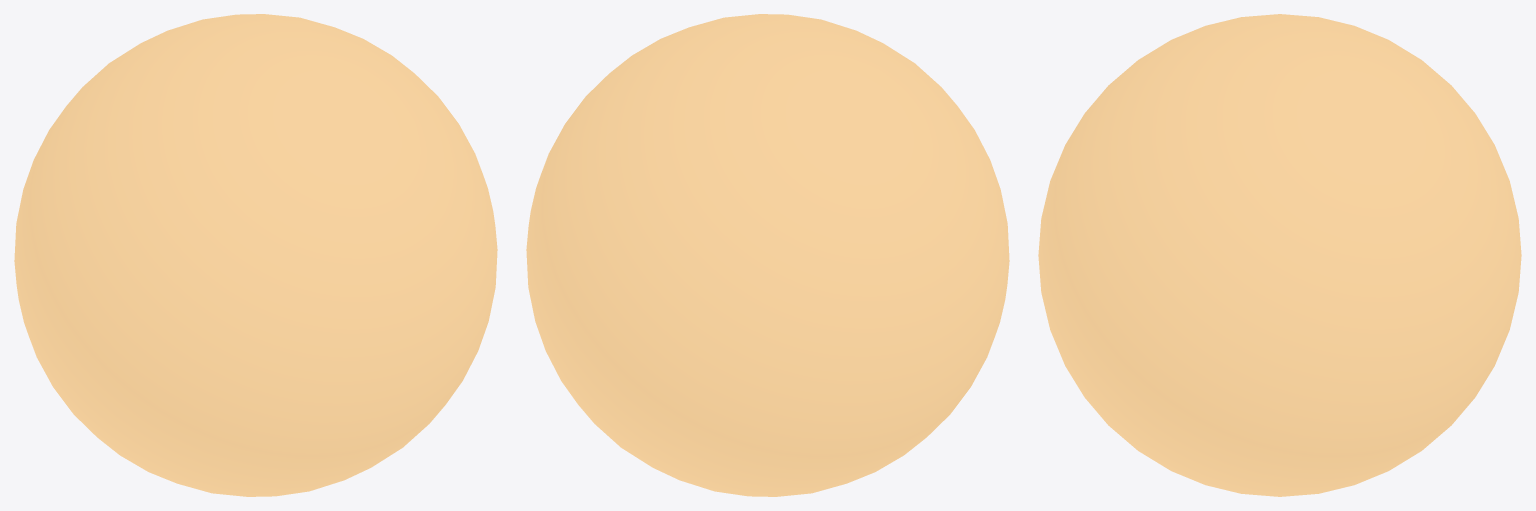
The model's file is ENV_Planet_GasGiant_01.glb.
3 renders of one model, left to right at view 1: azimuth 30°, elevation 25°; view 2: azimuth 150°, elevation 25°; view 3: azimuth 270°, elevation 25°, orthographic.
Visible parts, largest first — view 1: ENV_Planet_GasGiant_01_Atmosphere; view 2: ENV_Planet_GasGiant_01_Atmosphere; view 3: ENV_Planet_GasGiant_01_Atmosphere.
Boxes of the visible parts, box(x1,y1,x2,y2) form: ENV_Planet_GasGiant_01_Atmosphere: box(14, 14, 497, 496); ENV_Planet_GasGiant_01_Atmosphere: box(526, 14, 1009, 496); ENV_Planet_GasGiant_01_Atmosphere: box(1038, 14, 1521, 496).
Size of what is drawn, in the model's own units: 1881 by 1881 by 1881.
